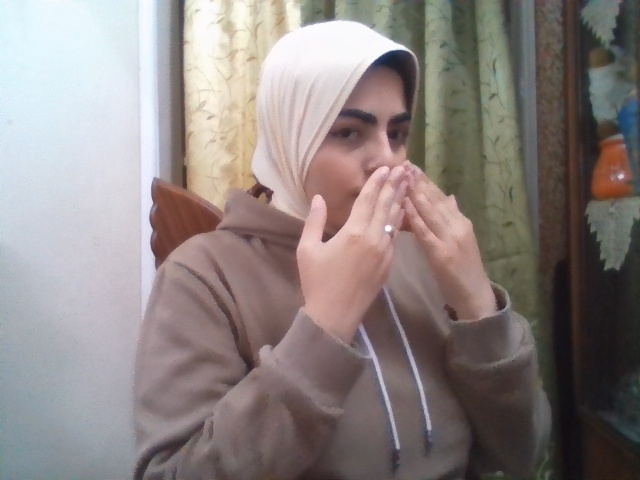thanks: (295, 160, 501, 311)
